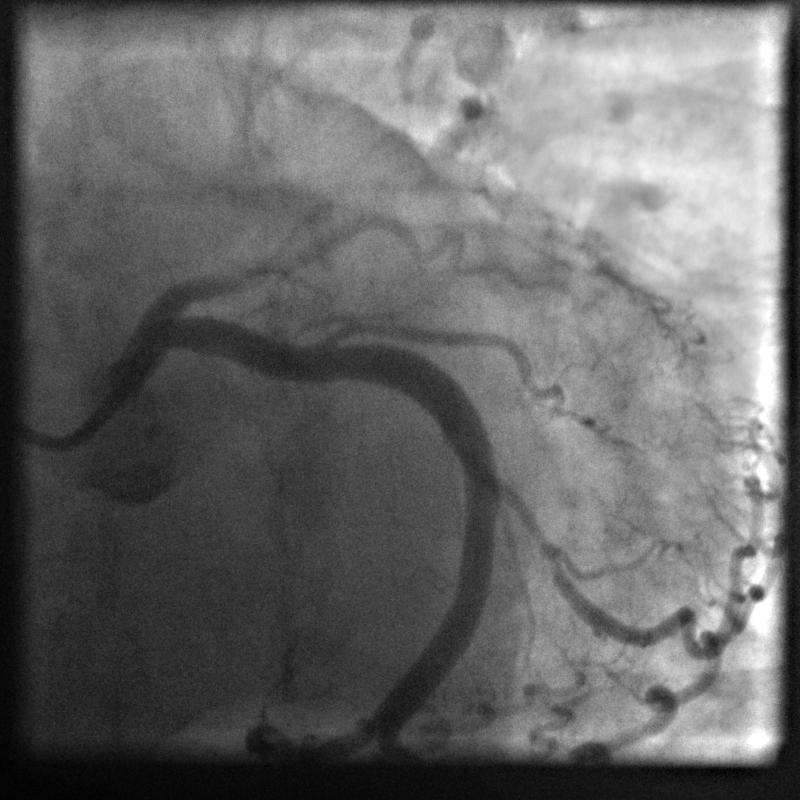Stenosis: (483, 444, 566, 586)
